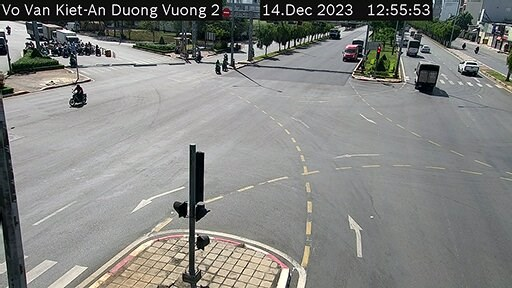car: (455, 58, 484, 77), (339, 43, 358, 64)
motorbike: (68, 79, 93, 107)
truck: (413, 61, 441, 93)
